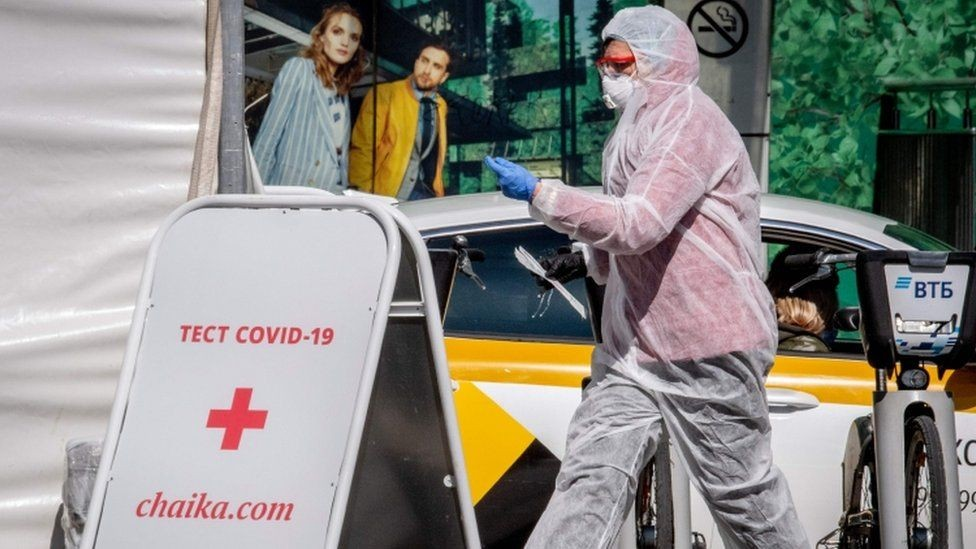Coverall: (534, 2, 810, 549)
Gloves: (483, 153, 546, 205)
with_mask: (593, 54, 637, 109)
